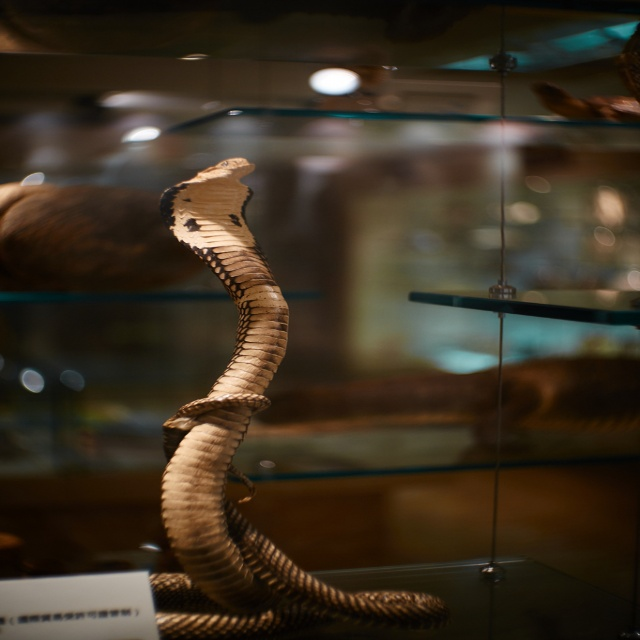Snake: (159, 157, 441, 638)
